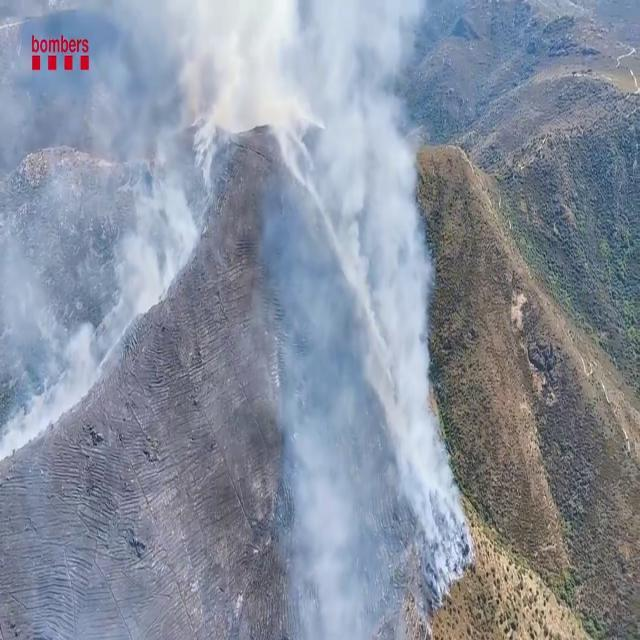Smoke: (226, 2, 468, 620), (0, 37, 216, 470)
